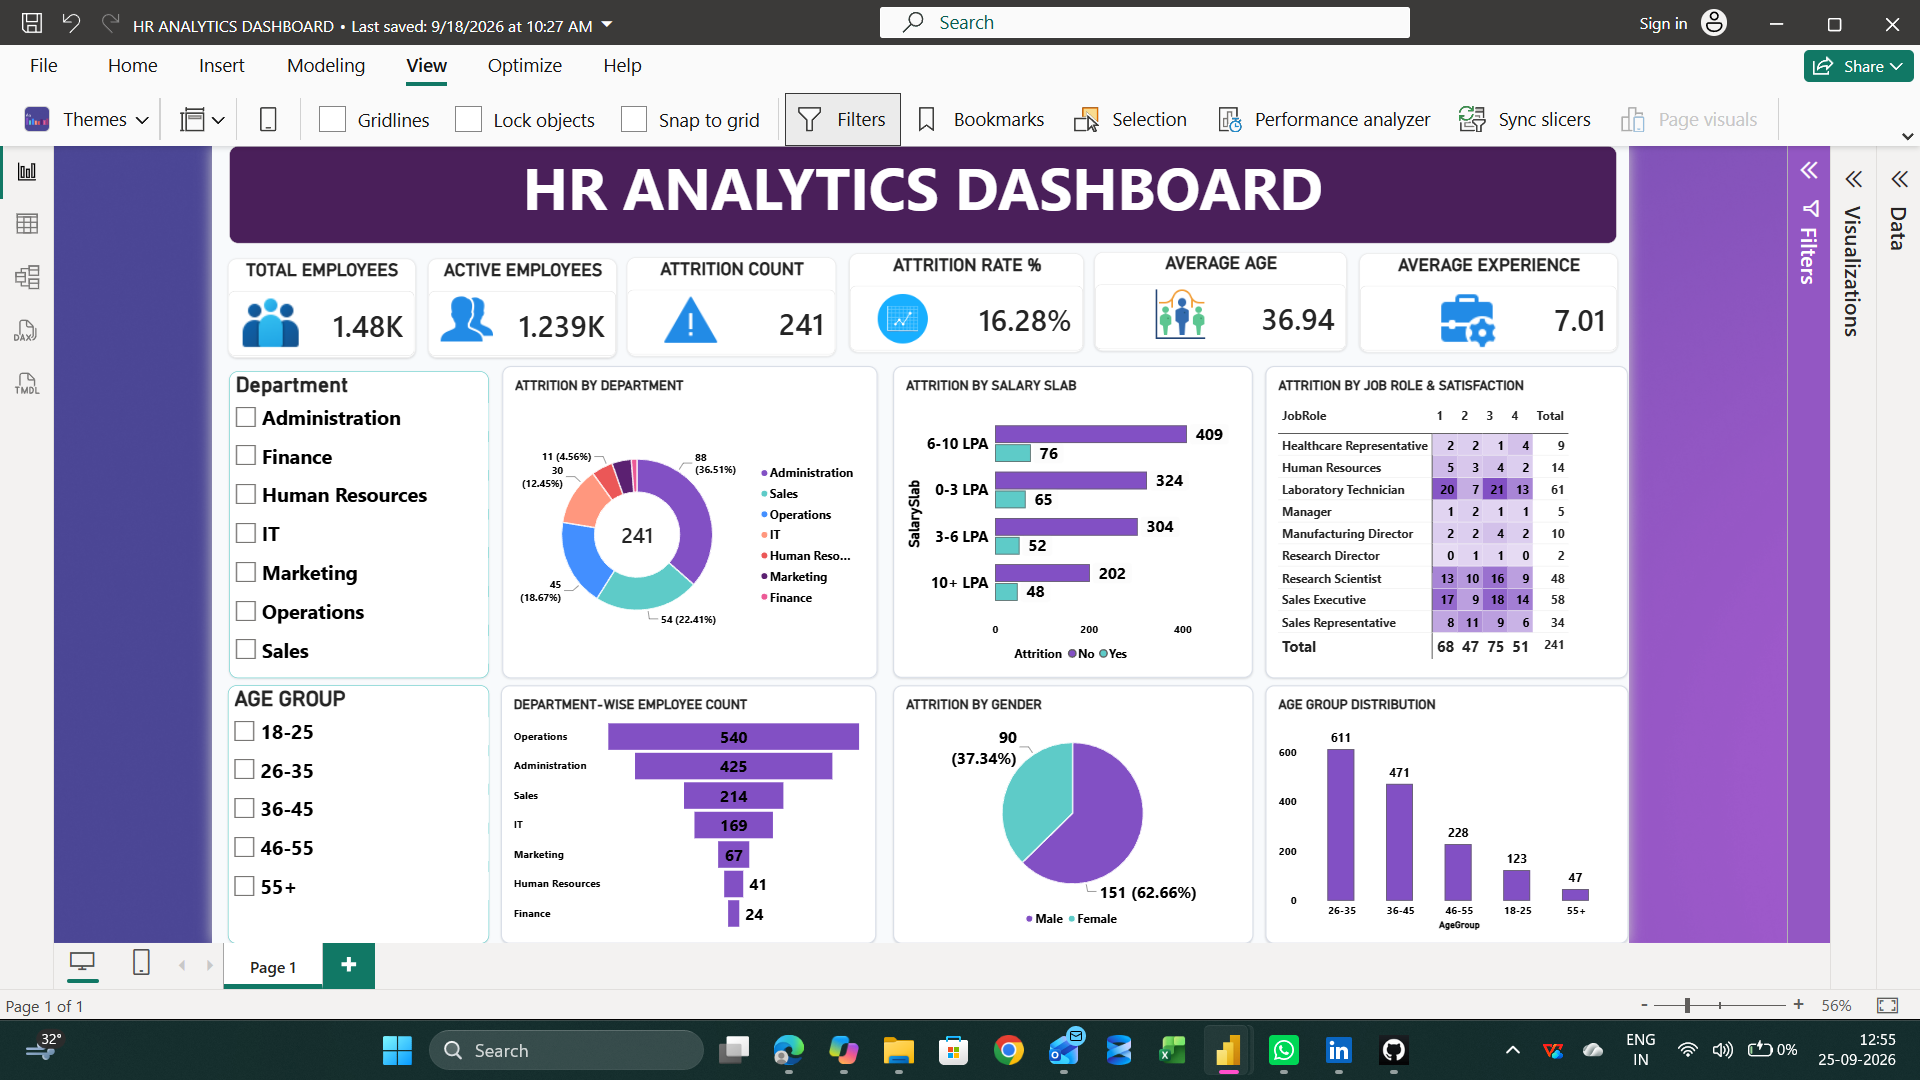

This screenshot's page, from the dashboard's own definition file:
{"tool":"powerbi","page":{"name":"Page 1","canvas":[1920,1080],"ordinal":0},"visuals":[{"type":"textbox","box":[24,0,1880,132],"z":0},{"type":"cardVisual","title":"TOTAL EMPLOYEES ","fields":{"Data":["CountNonNull(HR_Analytics-4.EmpID)"]},"box":[22,152,254,134],"z":1000},{"type":"cardVisual","title":"ACTIVE EMPLOYEES ","fields":{"Data":["CountNonNull(HR_Analytics-4.EmployeeCount)"]},"box":[292,152,256,134],"z":2000},{"type":"cardVisual","title":"ATTRITION COUNT","fields":{"Data":["Sum(HR_Analytics-4.Attrition Count)"]},"box":[562,150,284,134],"z":3000},{"type":"cardVisual","title":"ATTRITION RATE %","fields":{"Data":["HR_Analytics-4.Attrition Rate %"]},"box":[864,146,318,134],"z":4000},{"type":"cardVisual","title":"AVERAGE AGE","fields":{"Data":["Avg(HR_Analytics-4.Age)"]},"box":[1196,144,342,134],"z":5000},{"type":"cardVisual","title":"AVERAGE EXPERIENCE","fields":{"Data":["Avg(HR_Analytics-4.YearsatCompany)"]},"box":[1554,146,350,134],"z":6000},{"type":"image","box":[23.2,196.4,112.5,87.5],"z":7000},{"type":"image","box":[296,198,98.2,71.4],"z":8000},{"type":"image","box":[592,200,112.5,71.4],"z":9000},{"type":"image","box":[880,200,112.5,69.6],"z":10000},{"type":"image","box":[1256,192,110.7,71.4],"z":11000},{"type":"image","box":[1600,192,201.8,83.9],"z":12000},{"type":"donutChart","title":"ATTRITION BY DEPARTMENT","fields":{"Y":["Sum(HR_Analytics-4.Attrition Count)"],"Category":["HR_Analytics-4.Department"]},"box":[394,298,508.9,423.2],"z":13000},{"type":"clusteredBarChart","title":"ATTRITION BY SALARY SLAB","fields":{"Category":["HR_Analytics-4.SalarySlab"],"Y":["CountNonNull(HR_Analytics-4.EmpID)"],"Series":["HR_Analytics-4.Attrition"]},"box":[922,298,487.5,423],"z":14000},{"type":"pivotTable","title":"ATTRITION BY JOB ROLE & SATISFACTION","fields":{"Rows":["HR_Analytics-4.JobRole"],"Values":["Sum(HR_Analytics-4.Attrition Count)"],"Columns":["HR_Analytics-4.JobSatisfaction"]},"box":[1428,298,491.1,423.2],"z":15000},{"type":"columnChart","title":"AGE GROUP DISTRIBUTION","fields":{"Y":["Sum(HR_Analytics-4.EmployeeCount)"],"Category":["HR_Analytics-4.AgeGroup"]},"box":[1428,730,492,350],"z":16000},{"type":"pieChart","title":"ATTRITION BY GENDER","fields":{"Y":["Sum(HR_Analytics-4.Attrition Count)"],"Category":["HR_Analytics-4.Gender"]},"box":[922,730,488,350],"z":17000},{"type":"funnel","title":"DEPARTMENT-WISE EMPLOYEE COUNT","fields":{"Category":["HR_Analytics-4.Department"],"Y":["CountNonNull(HR_Analytics-4.EmpID)"]},"box":[392,730,509,350],"z":18000},{"type":"slicer","fields":{"Values":["HR_Analytics-4.Department"]},"box":[24,306,352,416],"z":19000},{"type":"slicer","fields":{"Values":["HR_Analytics-4.AgeGroup"]},"box":[22,730,354,350],"z":20000}]}

Visuals, with their boxes on the page's 1920x1080 design canvas (x1, y1, x2, y2). These are canvas units, not pixel positions in the 1920x1080 screenshot, which may show the page scaled, cropped or inside an application window:
textbox: bbox=[24, 0, 1904, 132]
"TOTAL EMPLOYEES " cardVisual: bbox=[22, 152, 276, 286]
"ACTIVE EMPLOYEES " cardVisual: bbox=[292, 152, 548, 286]
"ATTRITION COUNT" cardVisual: bbox=[562, 150, 846, 284]
"ATTRITION RATE %" cardVisual: bbox=[864, 146, 1182, 280]
"AVERAGE AGE" cardVisual: bbox=[1196, 144, 1538, 278]
"AVERAGE EXPERIENCE" cardVisual: bbox=[1554, 146, 1904, 280]
image: bbox=[23, 196, 136, 284]
image: bbox=[296, 198, 394, 269]
image: bbox=[592, 200, 704, 271]
image: bbox=[880, 200, 992, 270]
image: bbox=[1256, 192, 1367, 263]
image: bbox=[1600, 192, 1802, 276]
"ATTRITION BY DEPARTMENT" donutChart: bbox=[394, 298, 903, 721]
"ATTRITION BY SALARY SLAB" clusteredBarChart: bbox=[922, 298, 1410, 721]
"ATTRITION BY JOB ROLE & SATISFACTION" pivotTable: bbox=[1428, 298, 1919, 721]
"AGE GROUP DISTRIBUTION" columnChart: bbox=[1428, 730, 1920, 1080]
"ATTRITION BY GENDER" pieChart: bbox=[922, 730, 1410, 1080]
"DEPARTMENT-WISE EMPLOYEE COUNT" funnel: bbox=[392, 730, 901, 1080]
slicer - HR_Analytics-4.Department: bbox=[24, 306, 376, 722]
slicer - HR_Analytics-4.AgeGroup: bbox=[22, 730, 376, 1080]
